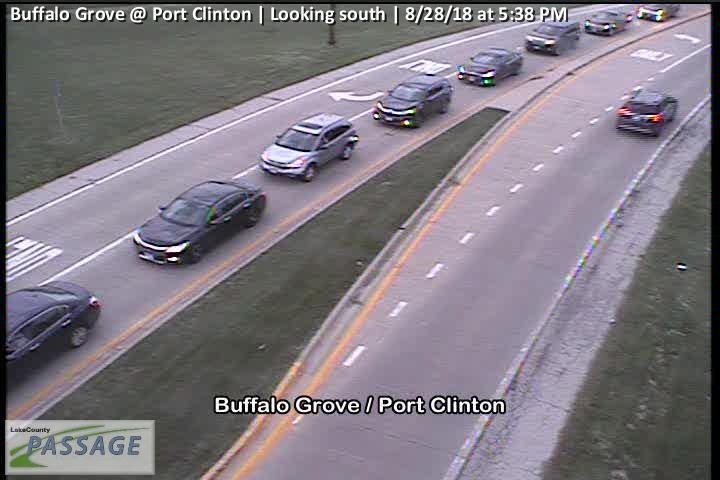Sedan: (133, 179, 267, 264), (1, 282, 101, 371), (259, 112, 358, 184), (372, 74, 454, 129), (616, 88, 679, 134), (456, 48, 523, 88), (524, 20, 582, 54), (584, 8, 627, 33), (636, 2, 682, 22)
